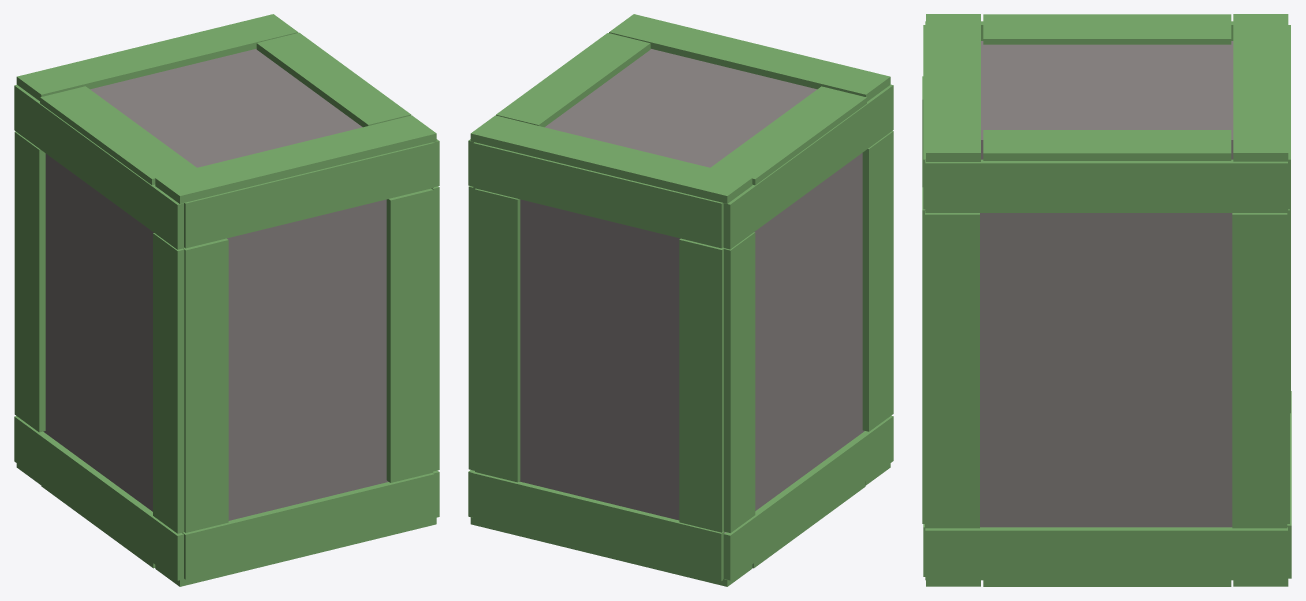
Rendered from SM_Big_Box_01.fbx.
The picture shows the model from 3 angles, left to right: view 1: azimuth 30°, elevation 25°; view 2: azimuth 150°, elevation 25°; view 3: azimuth 270°, elevation 25°; orthographic projection. The views are drawn at different scales.
Visible parts, largest first — view 1: SM_Big_Box_01; view 2: SM_Big_Box_01; view 3: SM_Big_Box_01.
Boxes of the visible parts, <box> form: SM_Big_Box_01: <box>14,14,439,586</box>; SM_Big_Box_01: <box>468,14,893,586</box>; SM_Big_Box_01: <box>922,14,1291,586</box>.
Bounding box in the file's own units: 55.97 × 79.77 × 61.55.
